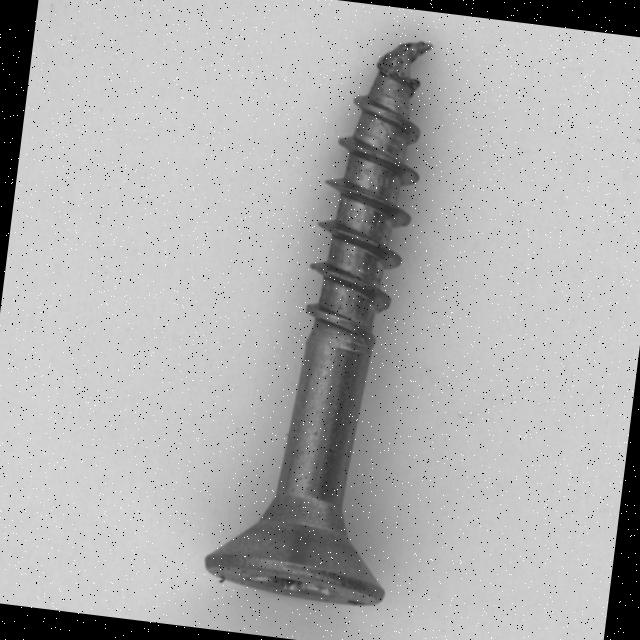manipulated_front: (376, 17, 434, 92)
